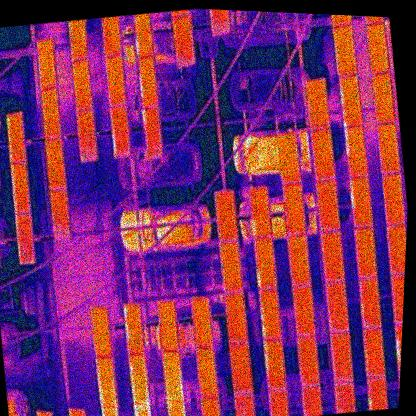Diode: (260, 336, 288, 392), (342, 124, 371, 178), (159, 347, 186, 405), (246, 185, 274, 240), (356, 275, 383, 332), (347, 175, 374, 231), (107, 104, 134, 159), (126, 350, 151, 408), (139, 105, 165, 159), (135, 54, 161, 108), (94, 355, 119, 410), (132, 12, 156, 57), (392, 321, 403, 374)
Hotspot: (336, 73, 365, 127), (120, 303, 147, 359), (252, 235, 279, 291), (256, 288, 283, 342)
Normal: (192, 343, 221, 401), (221, 289, 251, 345), (217, 238, 245, 296), (279, 181, 308, 237), (378, 172, 408, 226), (302, 77, 332, 131), (374, 121, 402, 178), (323, 279, 352, 334), (284, 233, 313, 288), (369, 71, 398, 126), (188, 293, 215, 352), (318, 230, 347, 284), (314, 179, 343, 233), (308, 127, 337, 181), (331, 23, 360, 77), (327, 330, 356, 384), (227, 341, 255, 396), (294, 333, 322, 388), (154, 298, 181, 355), (274, 131, 303, 184), (290, 284, 317, 340), (351, 226, 379, 280), (364, 21, 392, 75), (213, 188, 240, 243), (170, 13, 197, 68), (73, 109, 100, 163), (102, 55, 129, 109), (87, 304, 113, 360), (38, 85, 64, 140), (360, 326, 387, 378), (70, 57, 95, 113), (12, 212, 38, 265), (4, 110, 29, 165), (35, 37, 60, 92), (47, 189, 73, 241), (8, 160, 33, 214), (383, 222, 407, 277), (44, 136, 68, 191), (387, 272, 405, 325)
